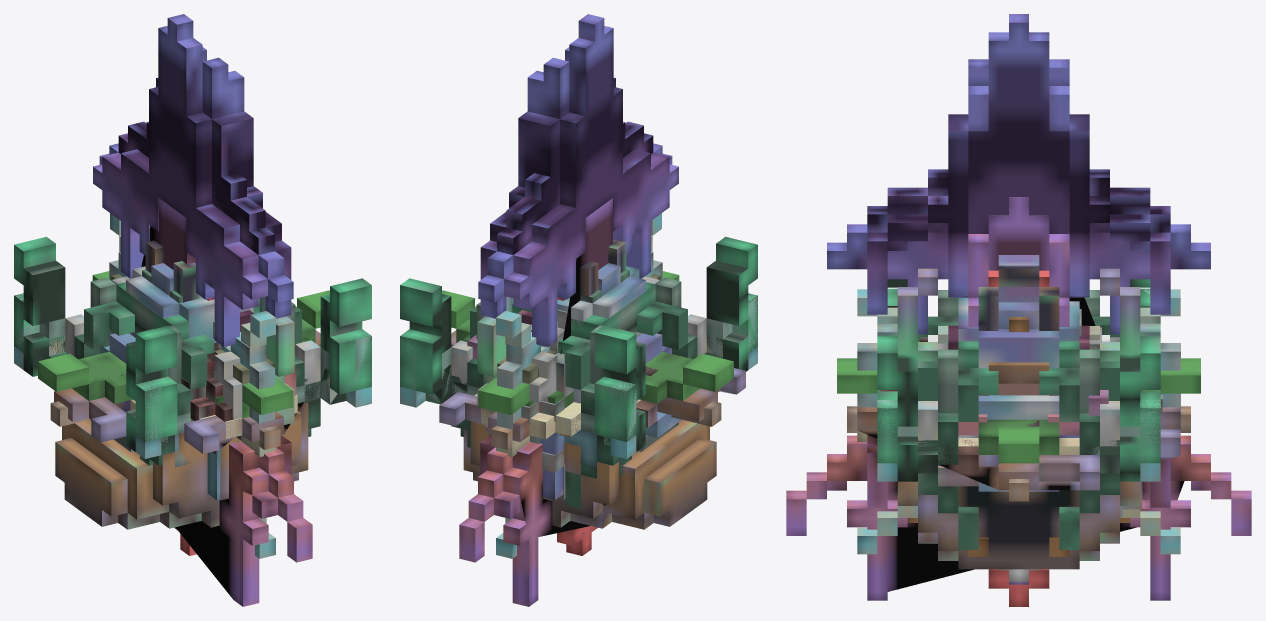
Rendered from enemies_2.fbx.
3 views of the same model, side by side, from view 1: azimuth 30°, elevation 25°; view 2: azimuth 150°, elevation 25°; view 3: azimuth 270°, elevation 25° (orthographic). The views are drawn at different scales.
Visible parts, largest first — view 1: can_transform_angel-4.002, cannon_rainbow-2.002, can_chthonic_angel-4.002, mage_battle_angel-4.002, can_chthonic_angel-0.002, can_carrot-5.002, can_mushroom-2.001, cannon_rainbow-4.002, can_stun_angel-0.002, can_standart_angel-2.002, can_stun_angel-3.002, can_stun_angel-1.002 (+2 smaller); view 2: can_transform_angel-4.002, can_chthonic_angel-4.002, cannon_rainbow-2.002, mage_battle_angel-4.002, can_chthonic_angel-0.002, can_carrot-5.002, can_mushroom-2.001, cannon_rainbow-4.002, can_standart_angel-2.002, can_stun_angel-0.002, can_stun_angel-3.002, can_standart_angel-1.002 (+4 smaller); view 3: can_transform_angel-4.002, mage_battle_angel-4.002, cannon_rainbow-2.002, can_chthonic_angel-0.002, can_chthonic_angel-4.002, can_mushroom-2.001, cannon_rainbow-4.002, can_carrot-5.002, can_stun_angel-1.002, can_stun_angel-3.002, can_fly_standart-2.001, can_standart_angel-2.002 (+4 smaller).
Part boxes in pixels (<box>): can_transform_angel-4.002: <box>93,14,293,346</box>; cannon_rainbow-2.002: <box>55,240,308,529</box>; can_chthonic_angel-4.002: <box>14,236,371,451</box>; mage_battle_angel-4.002: <box>141,198,312,606</box>; can_chthonic_angel-0.002: <box>74,269,320,465</box>; can_carrot-5.002: <box>38,271,329,418</box>; can_mushroom-2.001: <box>90,263,304,500</box>; cannon_rainbow-4.002: <box>54,330,320,453</box>; can_stun_angel-0.002: <box>109,252,274,423</box>; can_standart_angel-2.002: <box>15,293,371,445</box>; can_stun_angel-3.002: <box>14,314,371,458</box>; can_stun_angel-1.002: <box>110,213,275,558</box>; can_transform_angel-4.002: <box>478,14,678,346</box>; can_chthonic_angel-4.002: <box>400,236,757,451</box>; cannon_rainbow-2.002: <box>463,239,716,529</box>; mage_battle_angel-4.002: <box>459,198,612,606</box>; can_chthonic_angel-0.002: <box>451,269,697,508</box>; can_carrot-5.002: <box>442,271,733,414</box>; can_mushroom-2.001: <box>521,263,681,500</box>; cannon_rainbow-4.002: <box>439,330,745,442</box>; can_standart_angel-2.002: <box>400,294,757,445</box>; can_stun_angel-0.002: <box>497,252,662,439</box>; can_stun_angel-3.002: <box>400,314,757,458</box>; can_standart_angel-1.002: <box>521,309,573,499</box>; can_transform_angel-4.002: <box>827,14,1210,334</box>; mage_battle_angel-4.002: <box>786,197,1251,600</box>; cannon_rainbow-2.002: <box>877,267,1160,569</box>; can_chthonic_angel-0.002: <box>918,290,1119,549</box>; can_chthonic_angel-4.002: <box>877,279,1160,481</box>; can_mushroom-2.001: <box>938,255,1079,491</box>; cannon_rainbow-4.002: <box>857,407,1180,490</box>; can_carrot-5.002: <box>837,358,1200,463</box>; can_stun_angel-1.002: <box>857,289,1180,570</box>; can_stun_angel-3.002: <box>877,401,1160,481</box>; can_fly_standart-2.001: <box>907,317,1130,556</box>; can_standart_angel-2.002: <box>877,288,1160,464</box>.
Bounding box in the file's own units: 180 × 315 × 230.
1 material, 1 textured.
